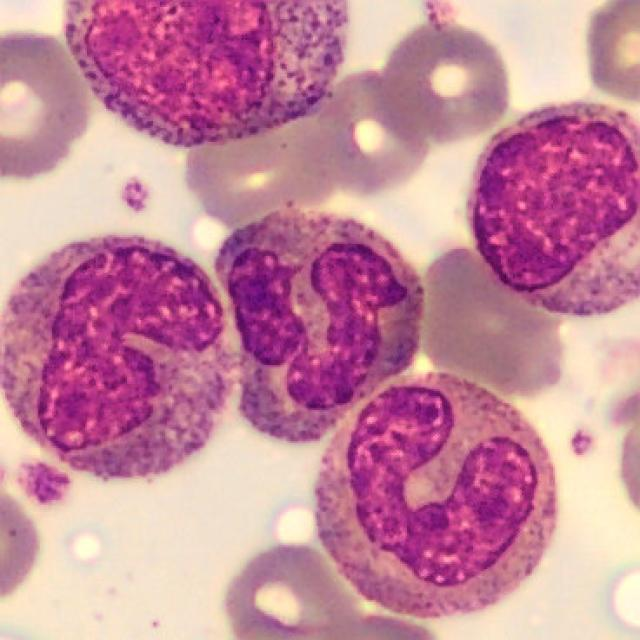Bastonete: (315, 374, 557, 621), (2, 232, 229, 481)
Neutrofilo segmentado: (213, 210, 420, 446)
